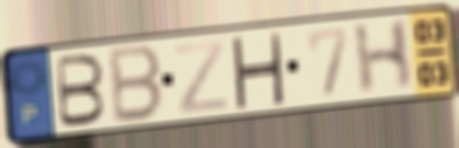7: (303, 25, 350, 100)
B: (108, 42, 166, 126), (54, 51, 108, 130)
H: (351, 15, 415, 99), (228, 32, 286, 110)
Z: (172, 37, 229, 116)
